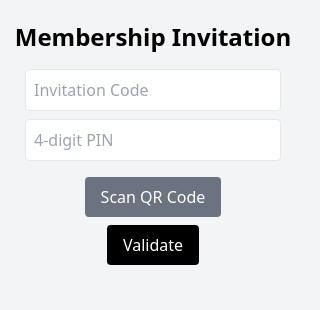
Test: InvitationPage Component › handles validation errors
The width and height of the screenshot is (320, 310).
# Set up input values
In the field with placeholder "Invitation Code": point(153, 90) x1=25 y1=69 x2=281 y2=111, type "INVALID"
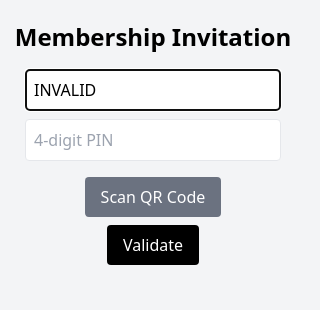
In the field with placeholder "4-digit PIN": point(153, 140) x1=25 y1=119 x2=281 y2=161, type "9999"
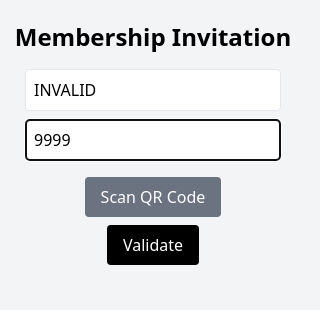
# Submit form
Click the button "Validate": point(153, 245) x1=107 y1=225 x2=199 y2=265
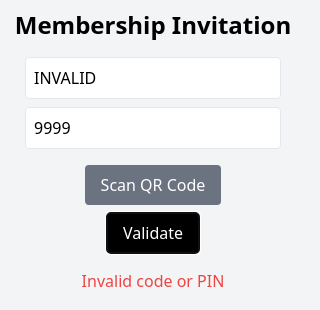
Expected: the text "Invalid code or PIN" is shown, x1=82 y1=269 x2=224 y2=293
